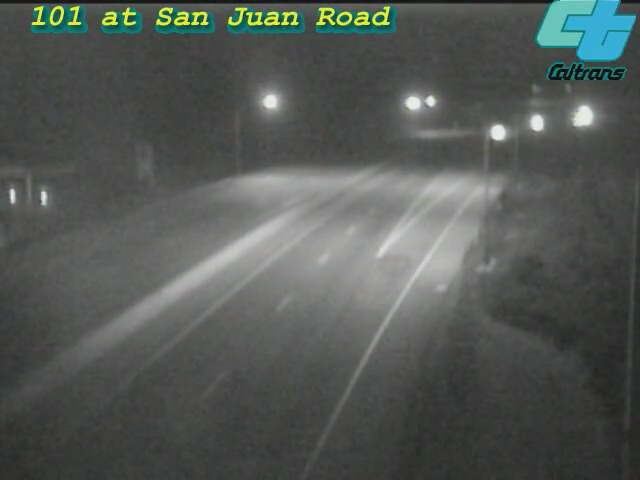vehicle: (552, 97, 602, 147), (472, 107, 522, 157), (511, 97, 561, 147), (560, 91, 610, 141)
